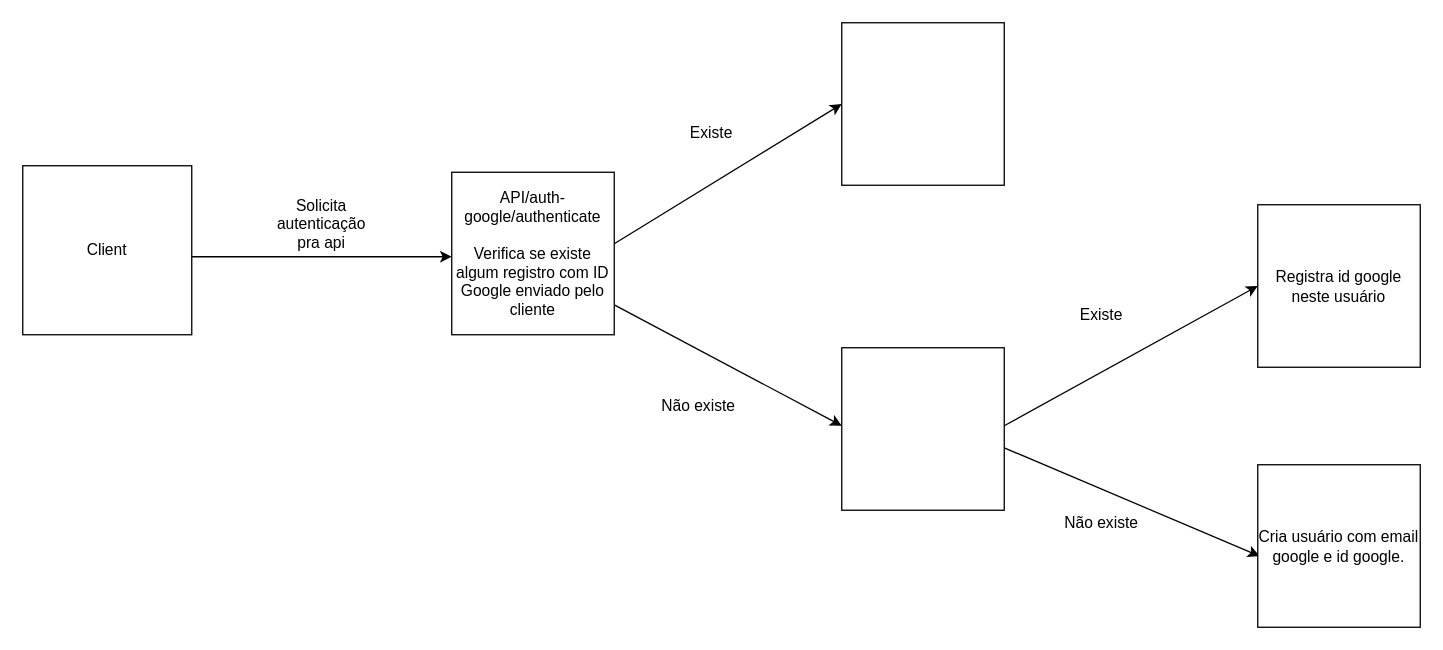
Some shapes in this 1443 by 650 pixel diagram are drawn without their labels. The shapes that lost their labels are listed below. From the top down, each one's centre as x and y in pixels, then its label:
At [922,103]: "Autentica o usuário e devolve o token".
At [922,428]: "Verifica se existe um email cadastrado igual ao email google fornecido".
